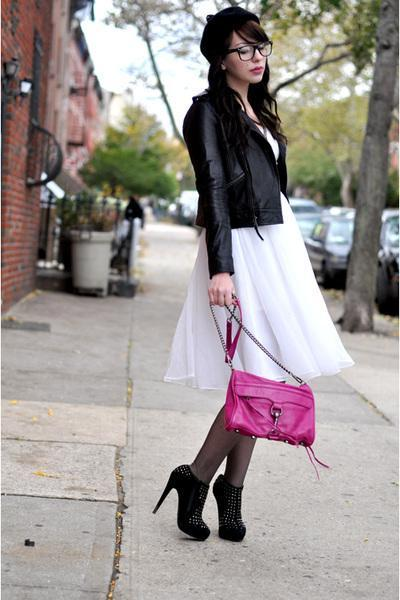jacket: (179, 92, 291, 280)
